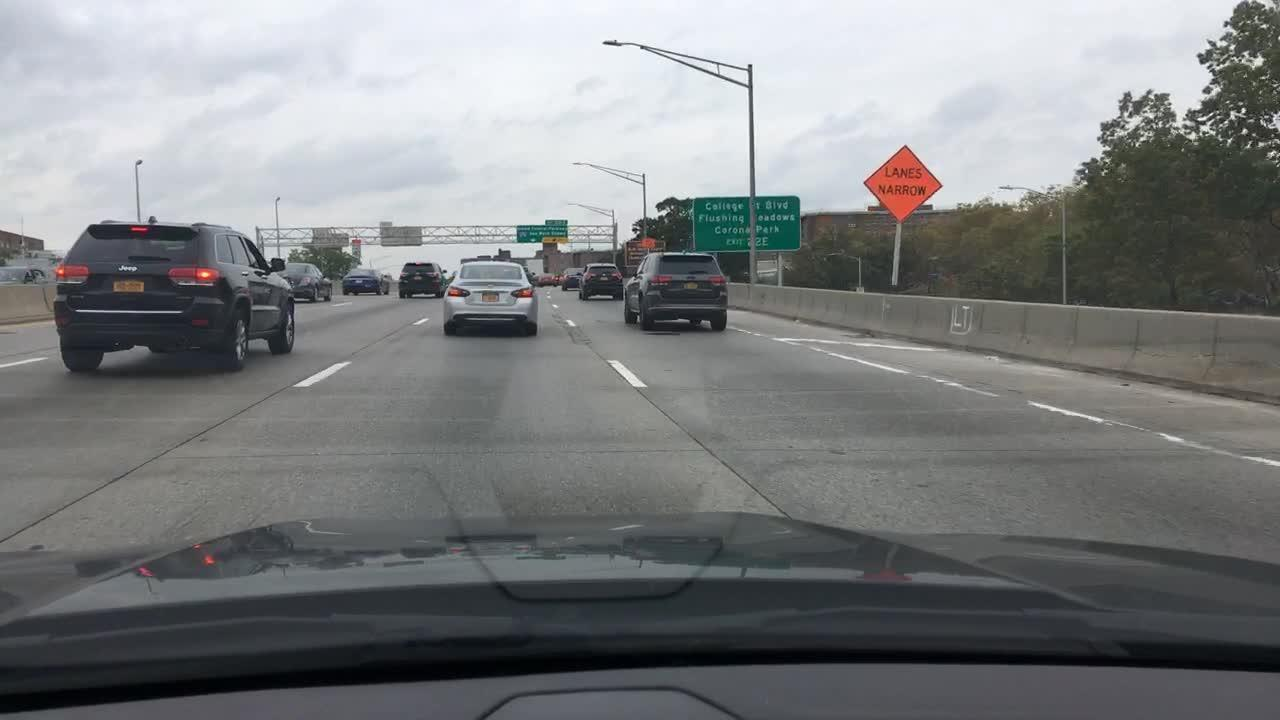jeep: (115, 260, 144, 277)
